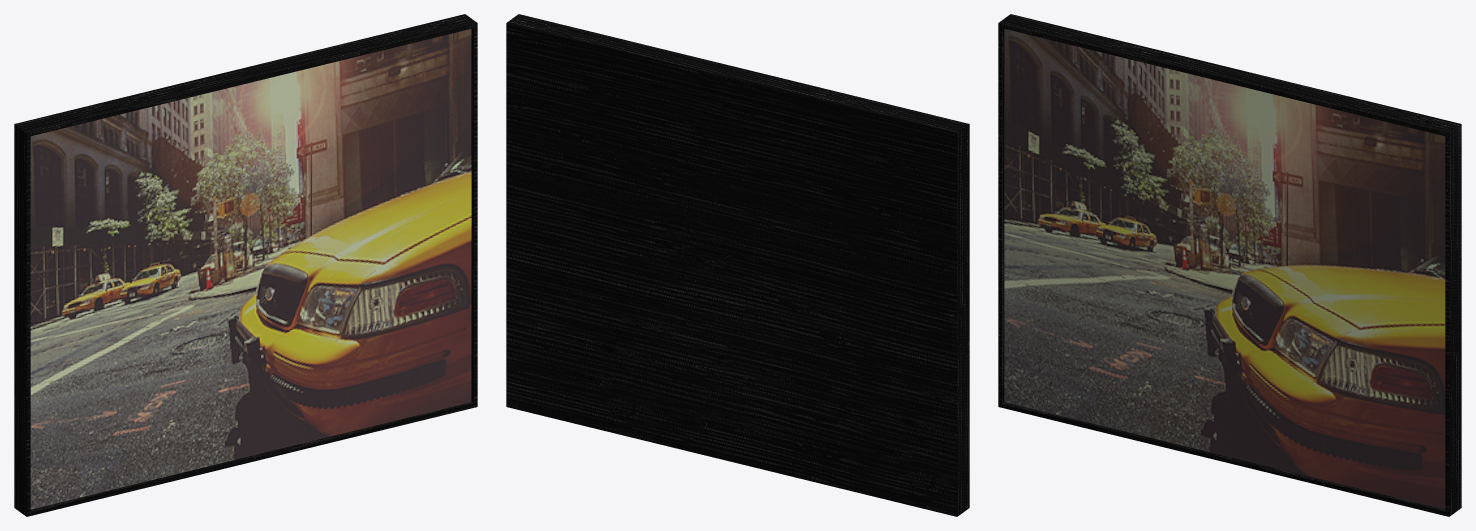
File: picture_3.fbx
The picture shows the model from 3 angles, left to right: view 1: azimuth 30°, elevation 25°; view 2: azimuth 150°, elevation 25°; view 3: azimuth 330°, elevation 25°; orthographic projection.
Visible parts, largest first — view 1: picture_3; view 2: picture_3; view 3: picture_3.
Part boxes in pixels (x1=…): picture_3: x1=14, y1=14, x2=477, y2=516; picture_3: x1=506, y1=14, x2=969, y2=516; picture_3: x1=998, y1=14, x2=1461, y2=516.
Size of the model in its own units: 2.32 by 1.89 by 0.1119.
